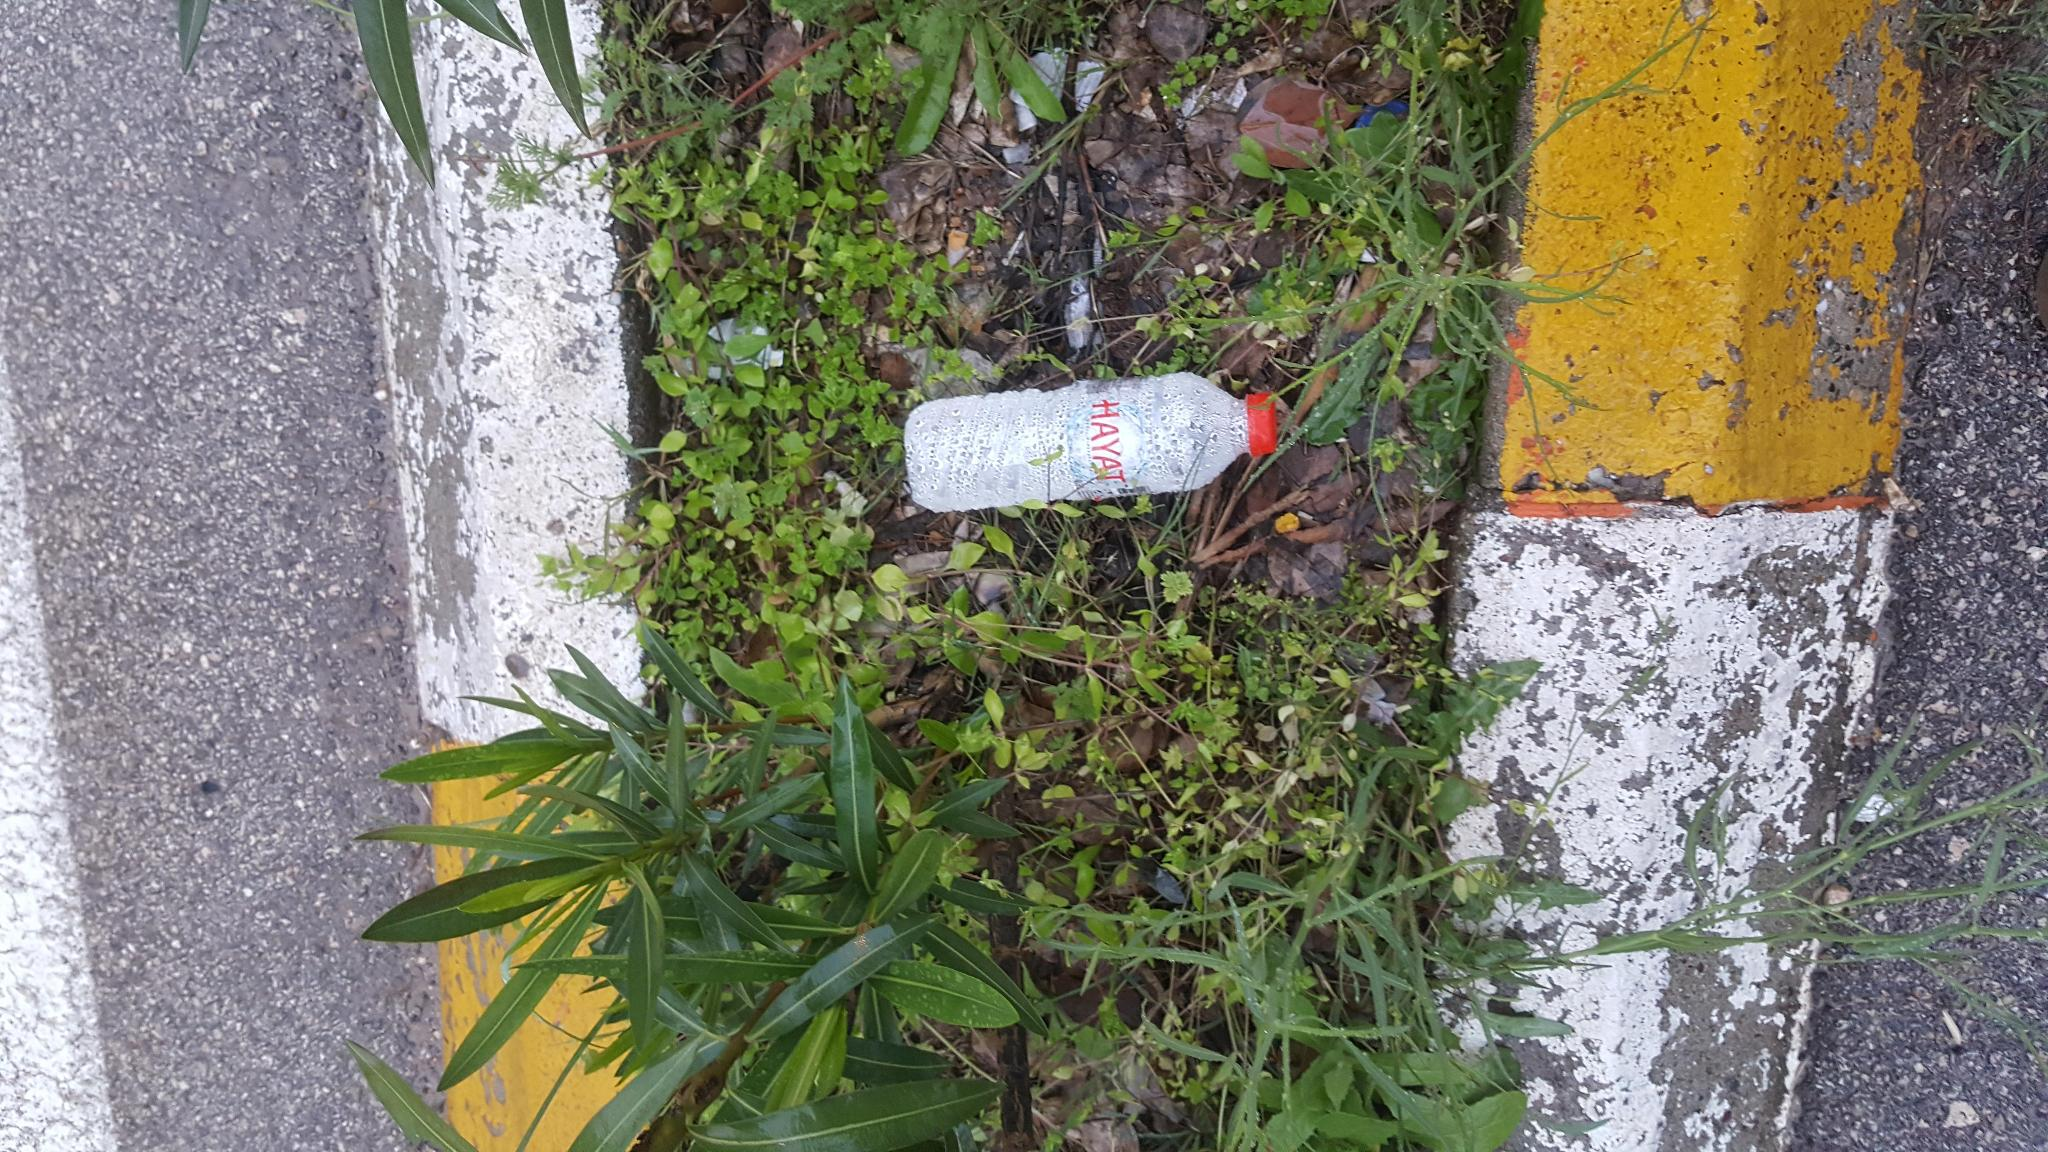plastic: (904, 374, 1248, 511)
